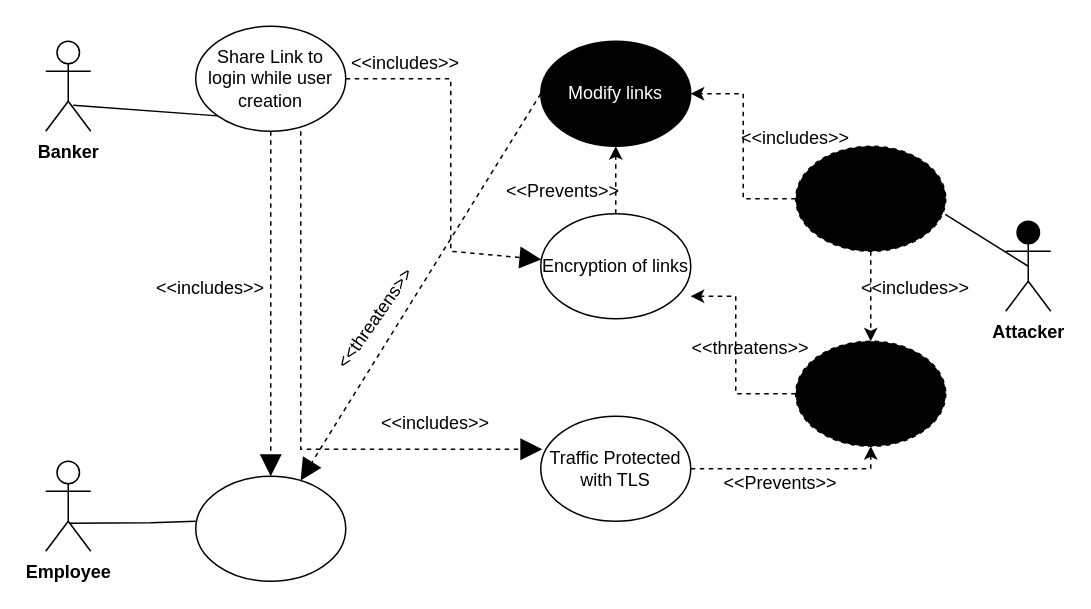
Some shapes in this 1091 by 609 pixel diagram are drawn without their labels. Each missing label, with the box of its shape:
Access Data: (194, 475, 346, 581)
Access over insecure networks: (794, 340, 946, 446)
Unauthorized Access: (794, 145, 946, 251)
